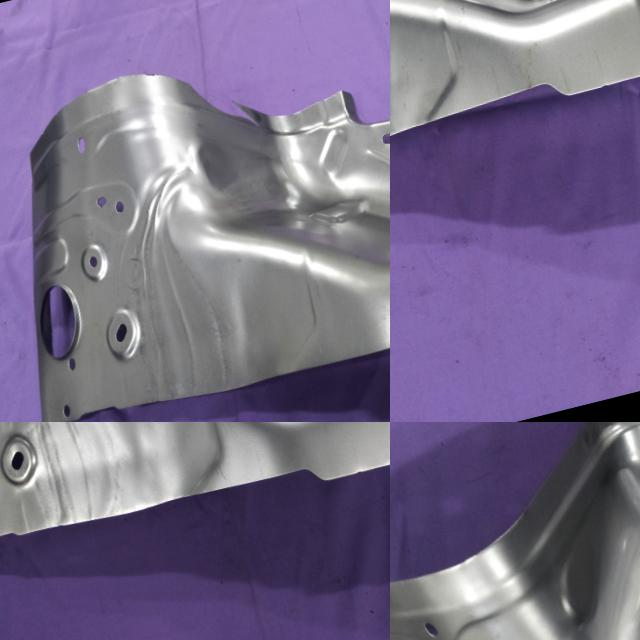Defect: (201, 61, 295, 162)
Healthy: (390, 422, 640, 640)
